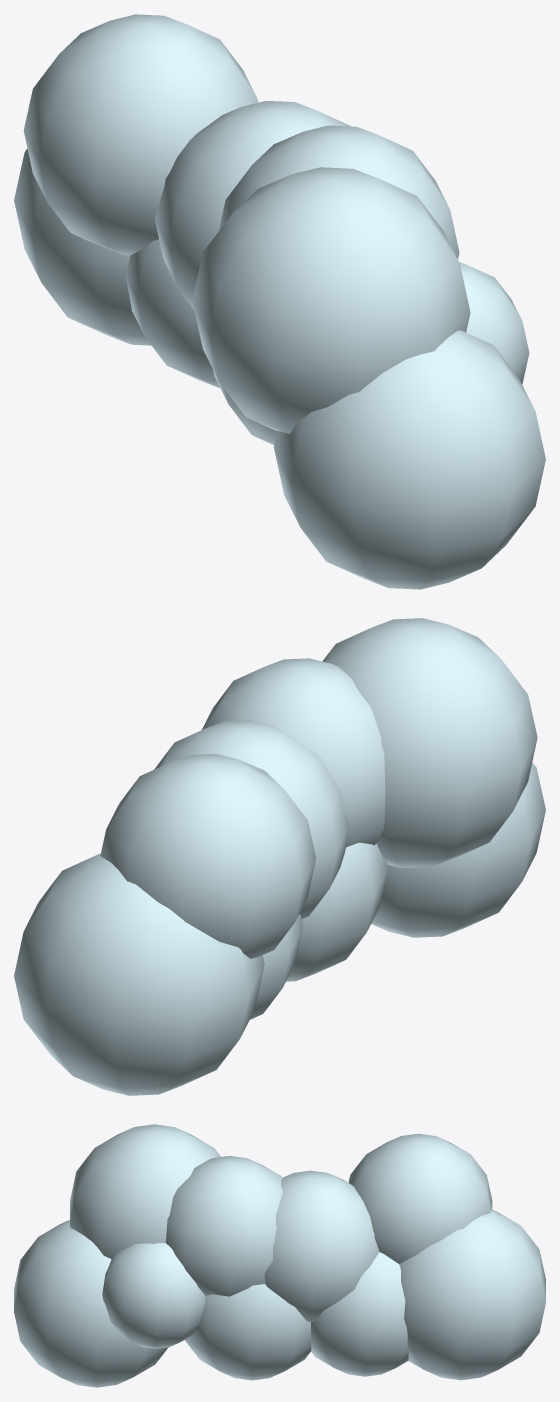
The model's file is Cloud.fbx.
3 views of the same model, one above another, from view 1: azimuth 30°, elevation 25°; view 2: azimuth 150°, elevation 25°; view 3: azimuth 270°, elevation 25° (orthographic). The views are drawn at different scales.
Parts seen in each view (by area): view 1: Cloud; view 2: Cloud; view 3: Cloud.
Boxes of the visible parts, x1,y1,x2,y2 form: Cloud: [14, 14, 545, 589]; Cloud: [14, 618, 545, 1095]; Cloud: [14, 1124, 545, 1387].
Size of the model in its own units: 2.92 by 3.36 by 6.84.
Materials: 1 (1 with a texture image).
